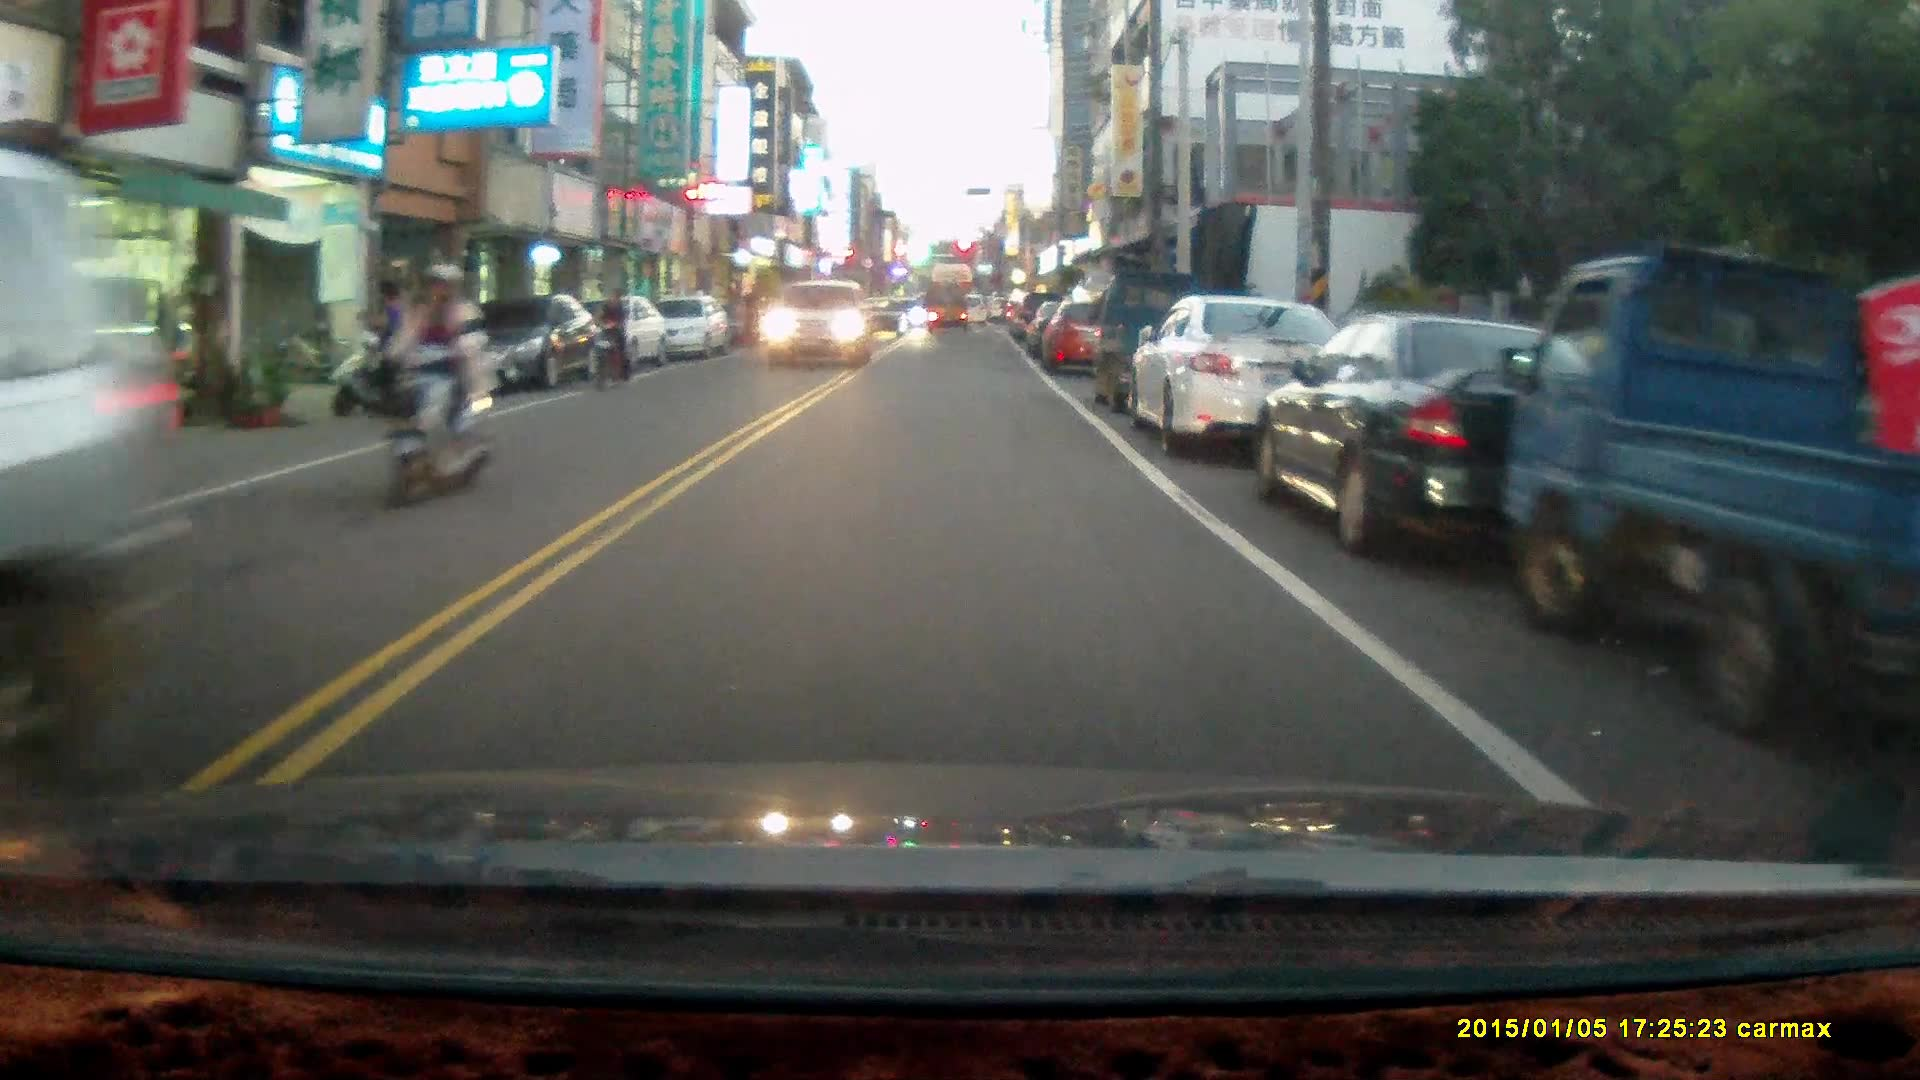pedestrian: (356, 278, 405, 419)
rider: (382, 259, 500, 509), (589, 286, 633, 389)
vehicle: (1507, 247, 1919, 757), (1254, 316, 1684, 566), (1130, 293, 1353, 458), (453, 298, 601, 392), (761, 279, 874, 366), (1039, 300, 1130, 377), (646, 296, 734, 364), (856, 296, 914, 342), (925, 283, 969, 335)
